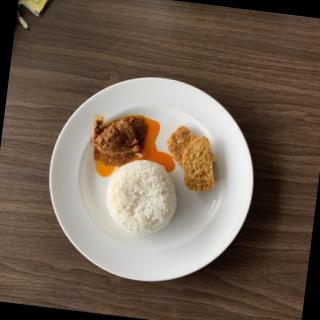Nasi: (102, 159, 183, 240)
